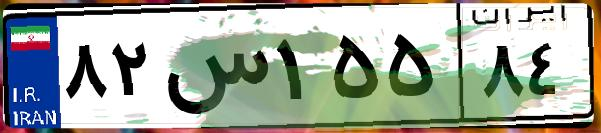1: (270, 28, 330, 110)
2: (110, 28, 158, 98)
4: (525, 38, 570, 115)
5: (385, 28, 445, 110), (330, 28, 385, 110)
8: (57, 26, 110, 100), (475, 38, 525, 113)
س: (158, 20, 270, 120)
